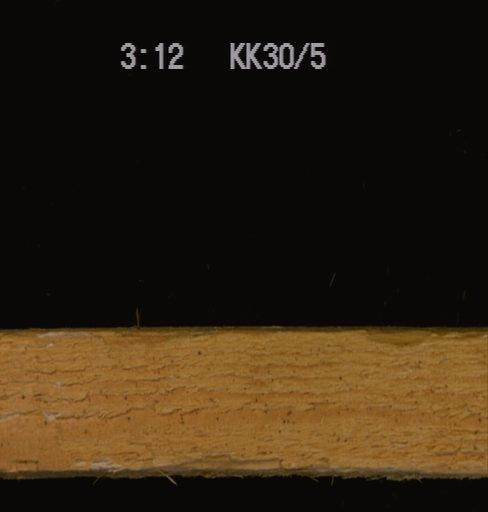wave: (121, 458, 355, 482), (60, 326, 281, 342), (355, 326, 486, 346)
